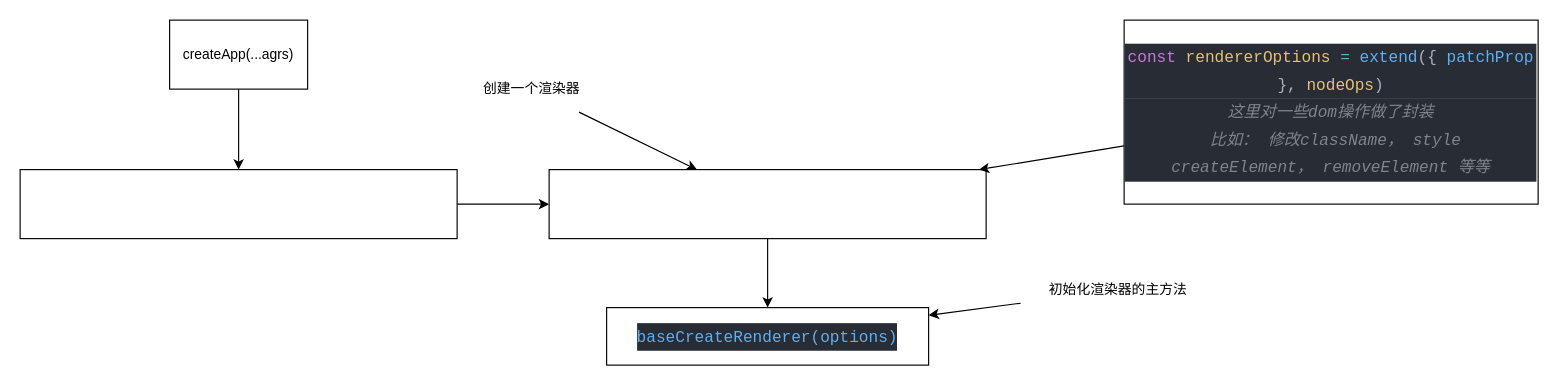
Image size: 1558x385. Some labels were removed from this diagram. Each missing label, with the centre of its shape:
"app = ensureRenderer (). createApp (... args )" goes at (238,203).
"ensureRenderer() => createRenderer(rendererOptions)" goes at (767,203).
